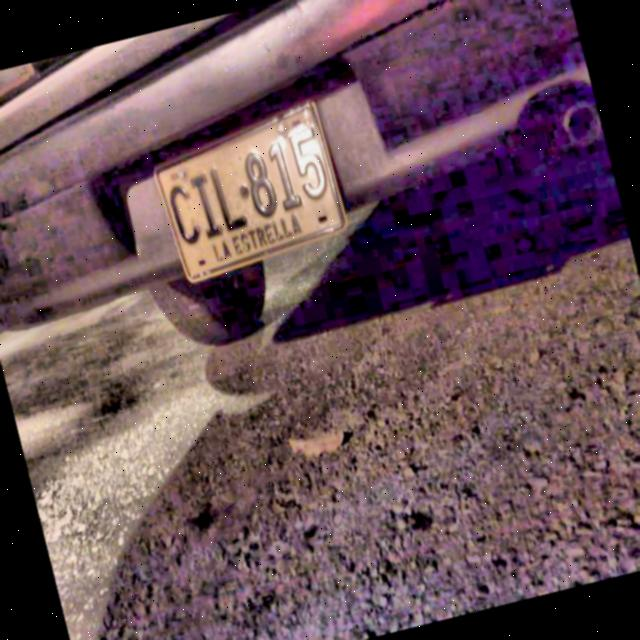plate: (154, 98, 347, 282)
